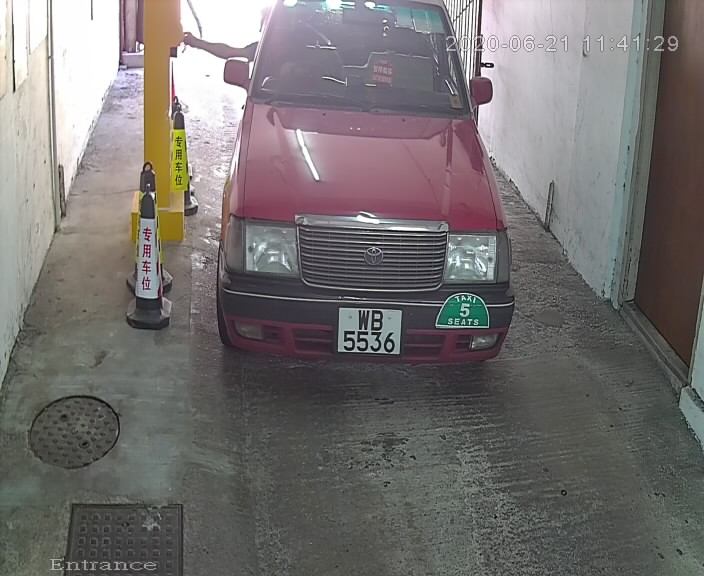taxi: (207, 2, 560, 410)
taxi_mark: (428, 287, 496, 341)
